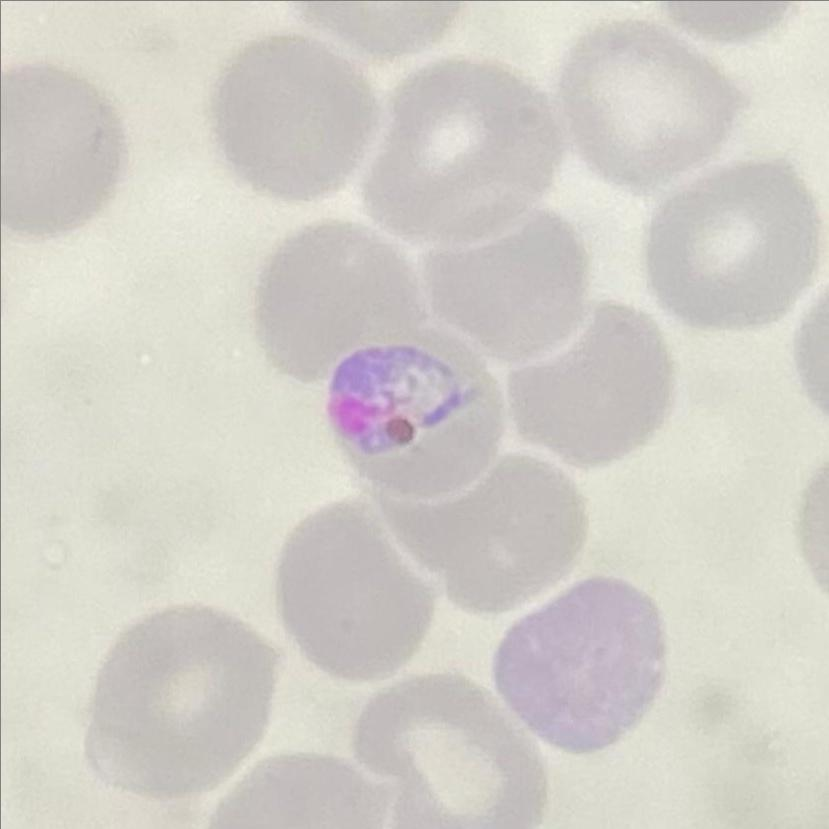Infected: (329, 331, 507, 506)
Uninfected: (84, 603, 277, 797), (369, 61, 558, 237), (393, 452, 584, 614), (278, 496, 442, 684), (496, 574, 663, 752), (253, 220, 433, 384), (353, 673, 547, 823), (212, 32, 380, 205), (565, 22, 739, 189), (647, 162, 819, 329), (509, 302, 675, 471), (420, 212, 590, 370)
